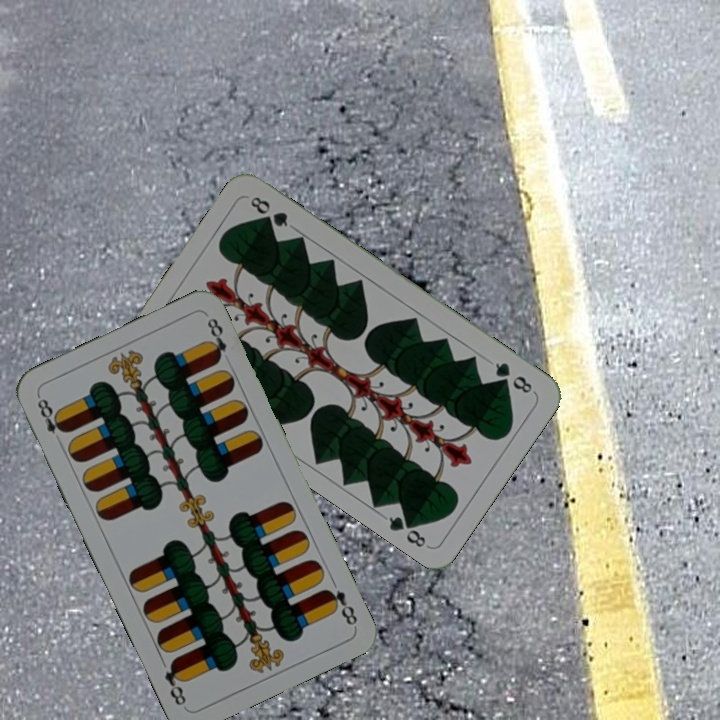E8: (320, 584, 360, 628), (33, 392, 69, 437)
G8: (491, 358, 535, 396)
